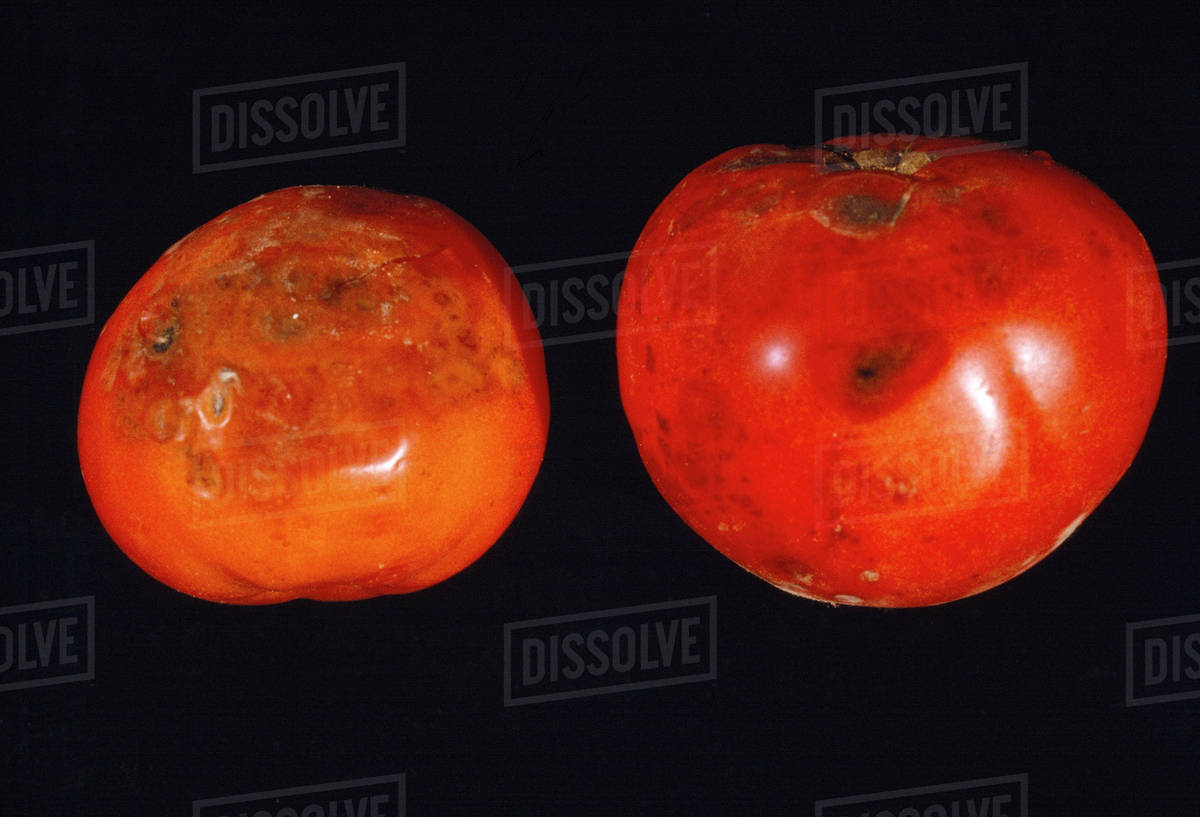anthracnose: (160, 244, 512, 506), (796, 275, 996, 466), (777, 144, 979, 255)
